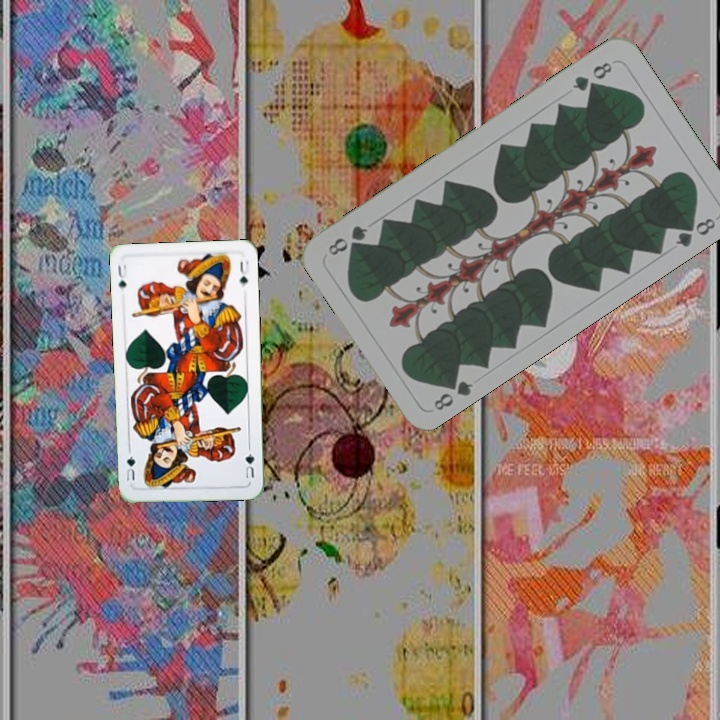G8: (429, 372, 476, 414), (568, 57, 615, 94)
GU: (241, 449, 257, 481), (114, 261, 130, 291)
